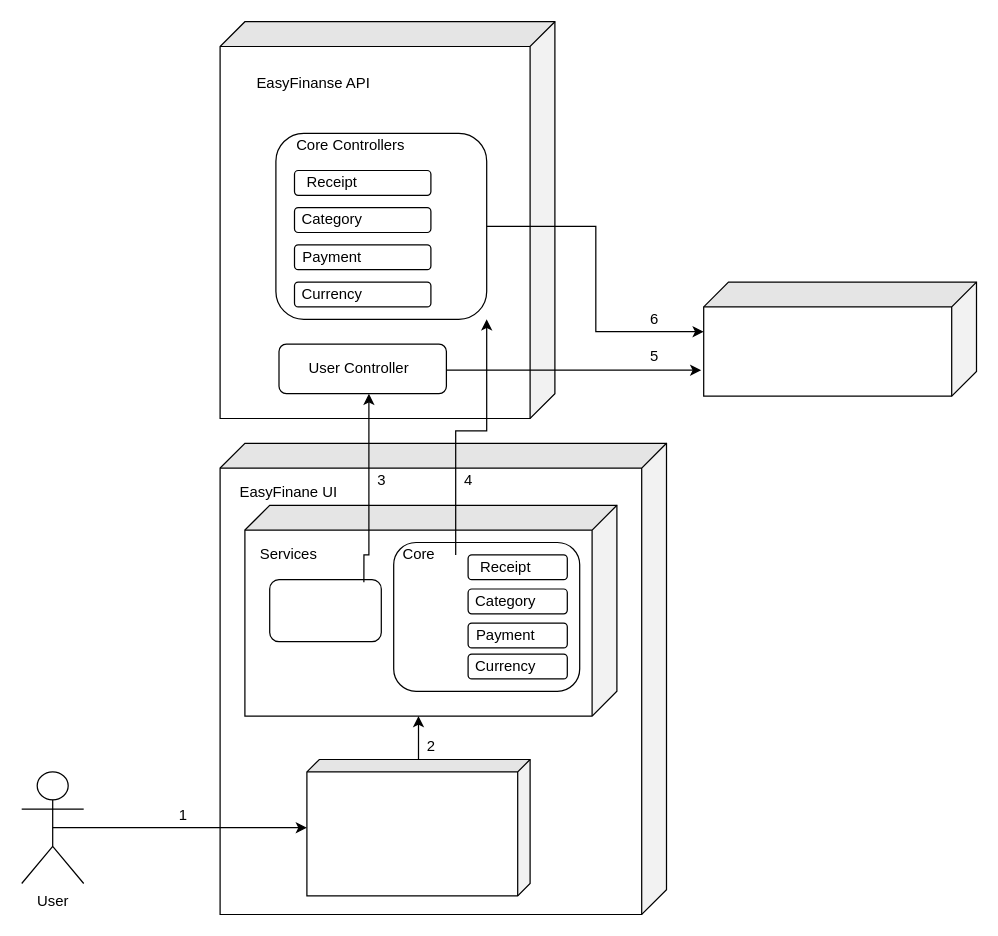
This 998x936 diagram has some shape labels left out. Here are the shapes that lost their labels. From the top down, the centre of each, then its label:
At (x=839, y=338): "Database".
At (x=324, y=610): "User".
At (x=418, y=827): "Components".
